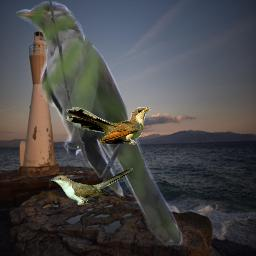Cuckoo: (16, 1, 189, 247), (66, 107, 151, 145), (49, 167, 133, 205)
